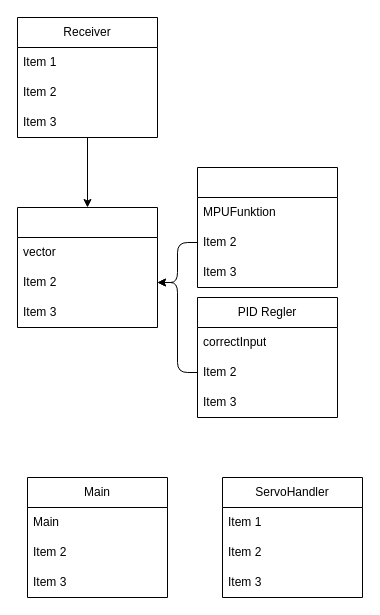
The diagram is 380 pixels wide and 615 high, and some of its shapes have lost their labels. The shapes that lost their labels are listed below. From the top down, each one's box as (x1, y1, x2, y2) in pixels, then its label:
(196, 166, 338, 288): MPU 6050
(16, 206, 158, 328): InputHandler
